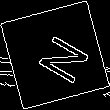N_NW: (23, 25, 87, 85)
